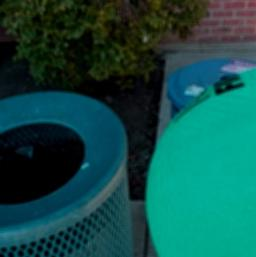algae: (146, 63, 256, 257)
